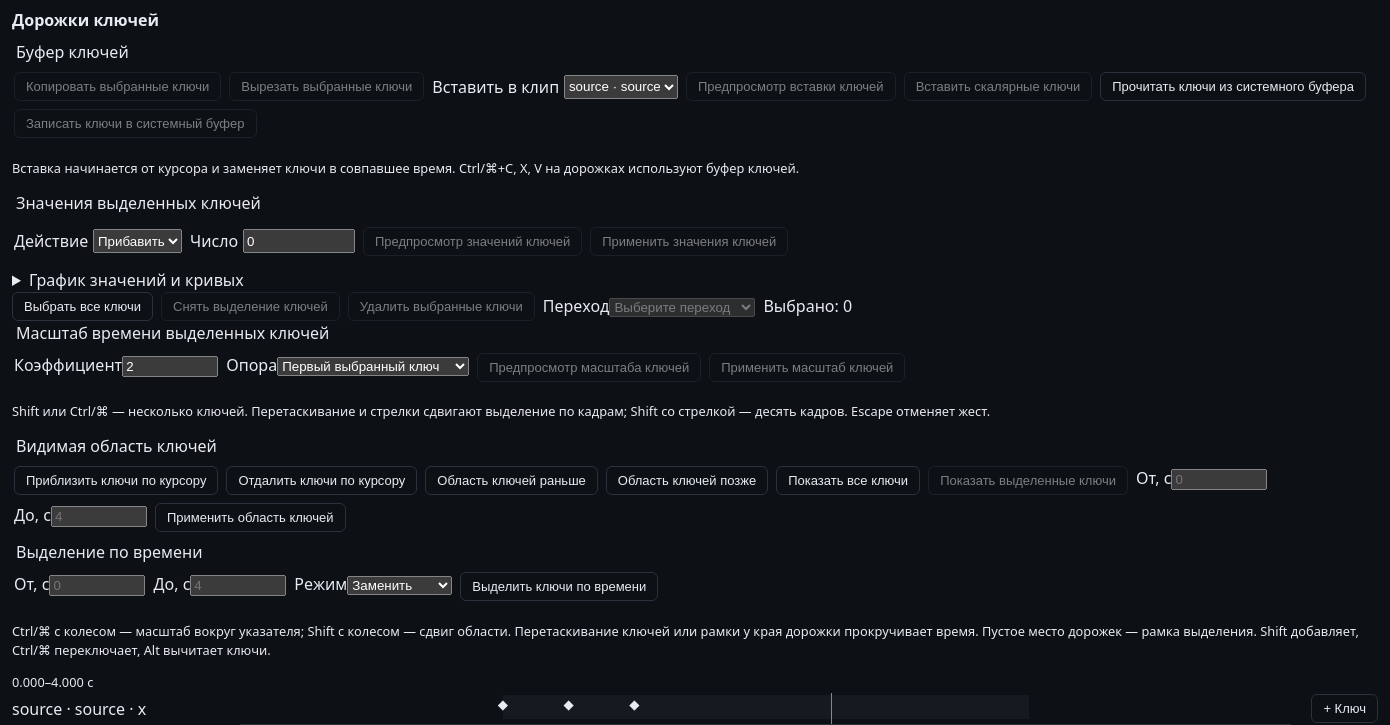
Scenario: rejects stale paste admission before reactive cleanup and restores the original preview on native refusal
Click the button "Выбрать все ключи".
click(82, 306)  # box left=12, top=292, right=153, bottom=321
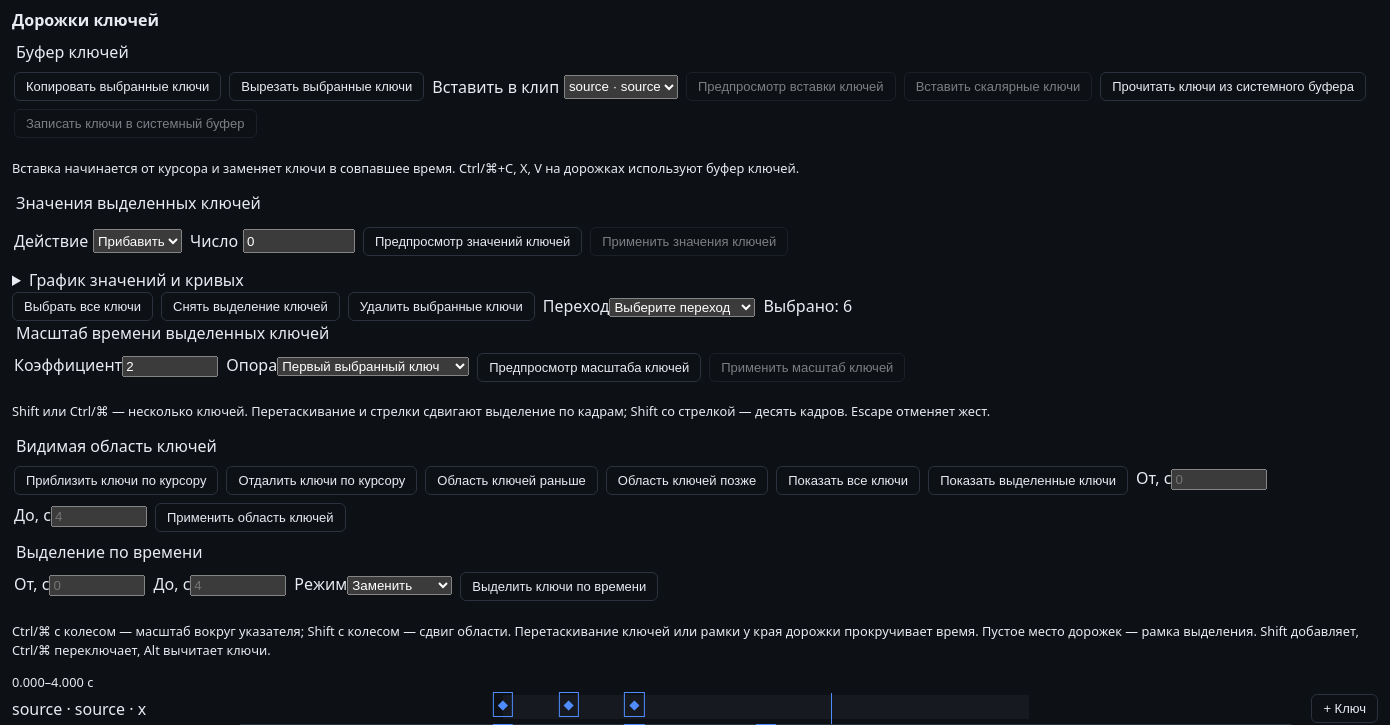
Click the button "Копировать выбранные ключи".
click(118, 86)  # box left=14, top=72, right=221, bottom=101
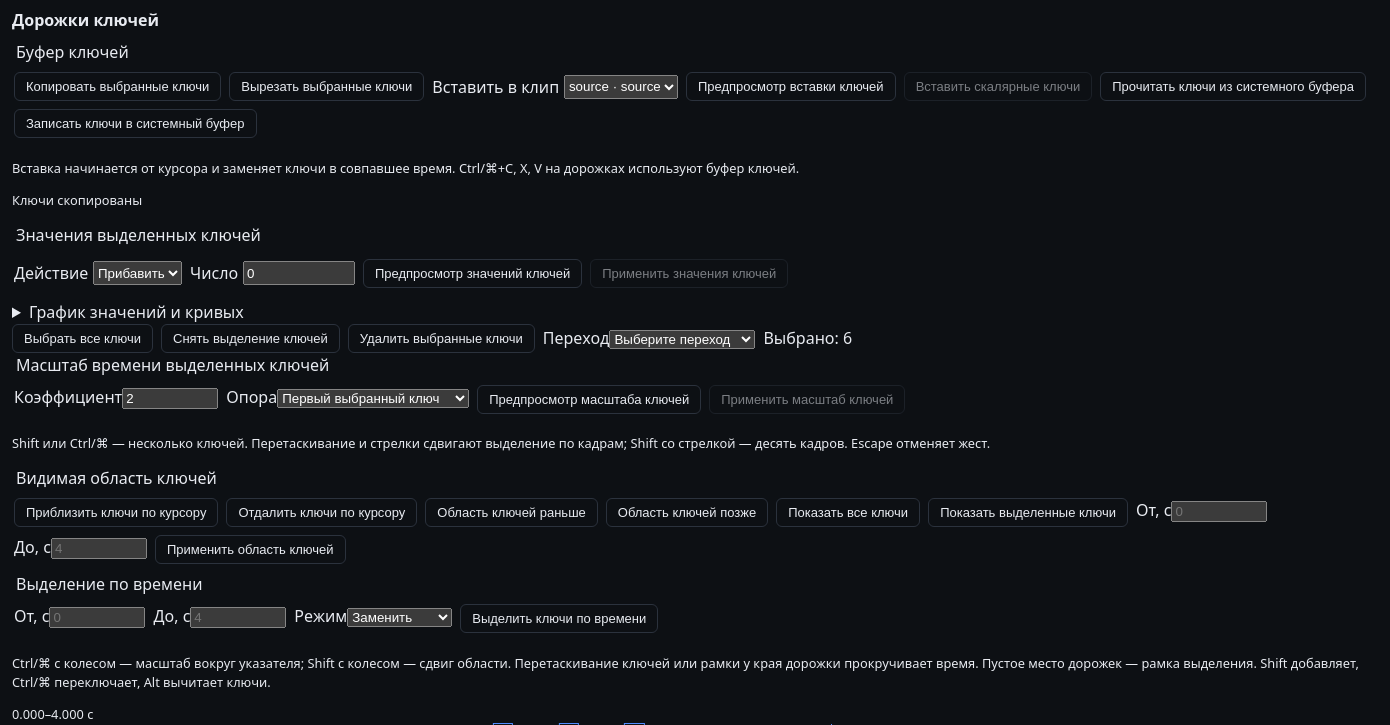
Select "target · target" in the dropdown named "Клип для вставки скалярных ключей" at x=621, y=86, box left=564, top=74, right=678, bottom=98
Click the button "Предпросмотр вставки ключей".
click(791, 86)  # box left=686, top=72, right=896, bottom=101
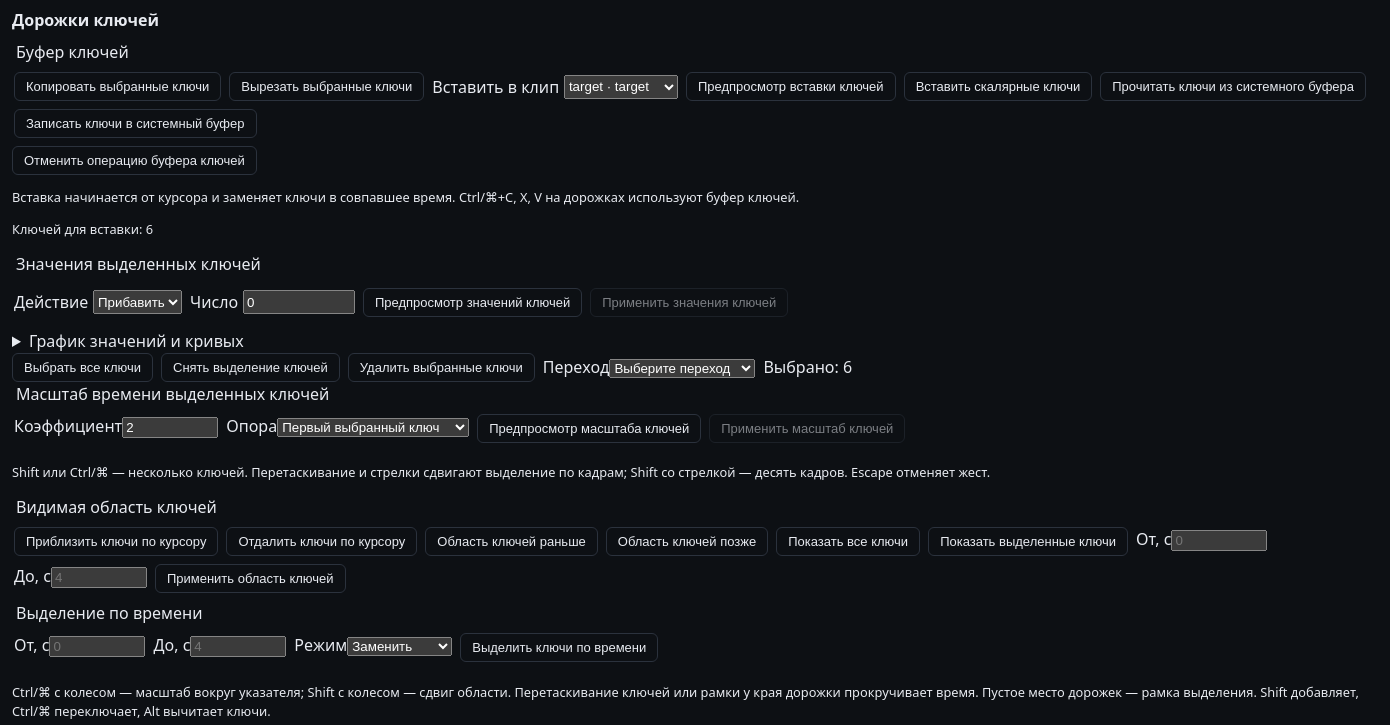
Click the button "Вставить скалярные ключи".
click(998, 86)  # box left=904, top=72, right=1092, bottom=101
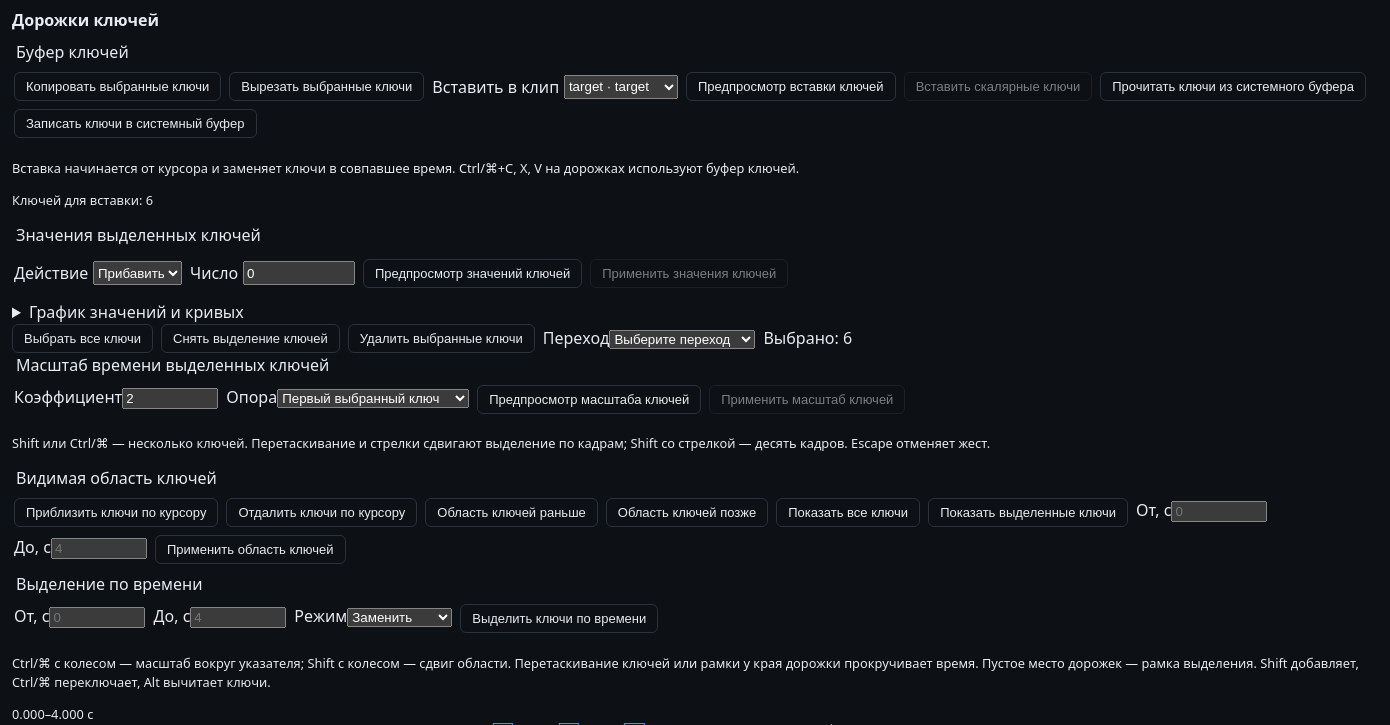
Click the button "Предпросмотр вставки ключей".
click(791, 86)  # box left=686, top=72, right=896, bottom=101
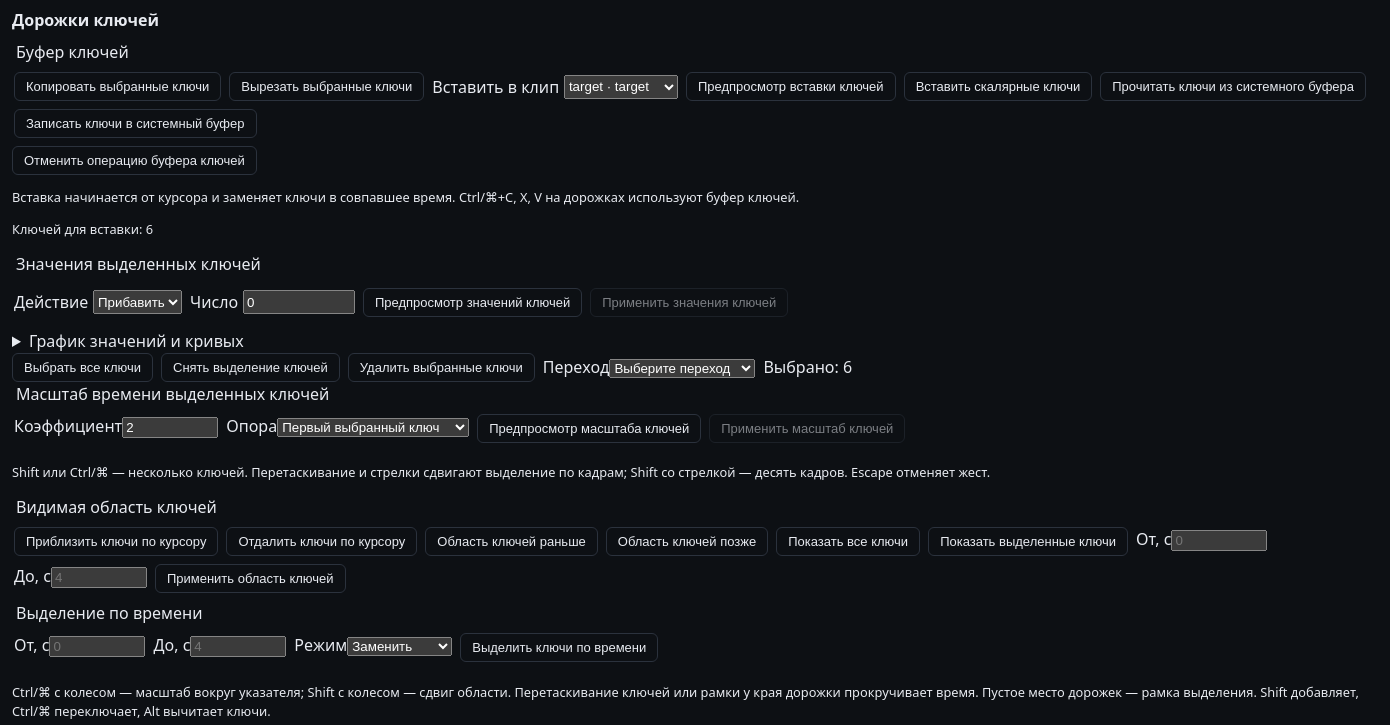
Click the button "Вставить скалярные ключи".
click(998, 86)  # box left=904, top=72, right=1092, bottom=101
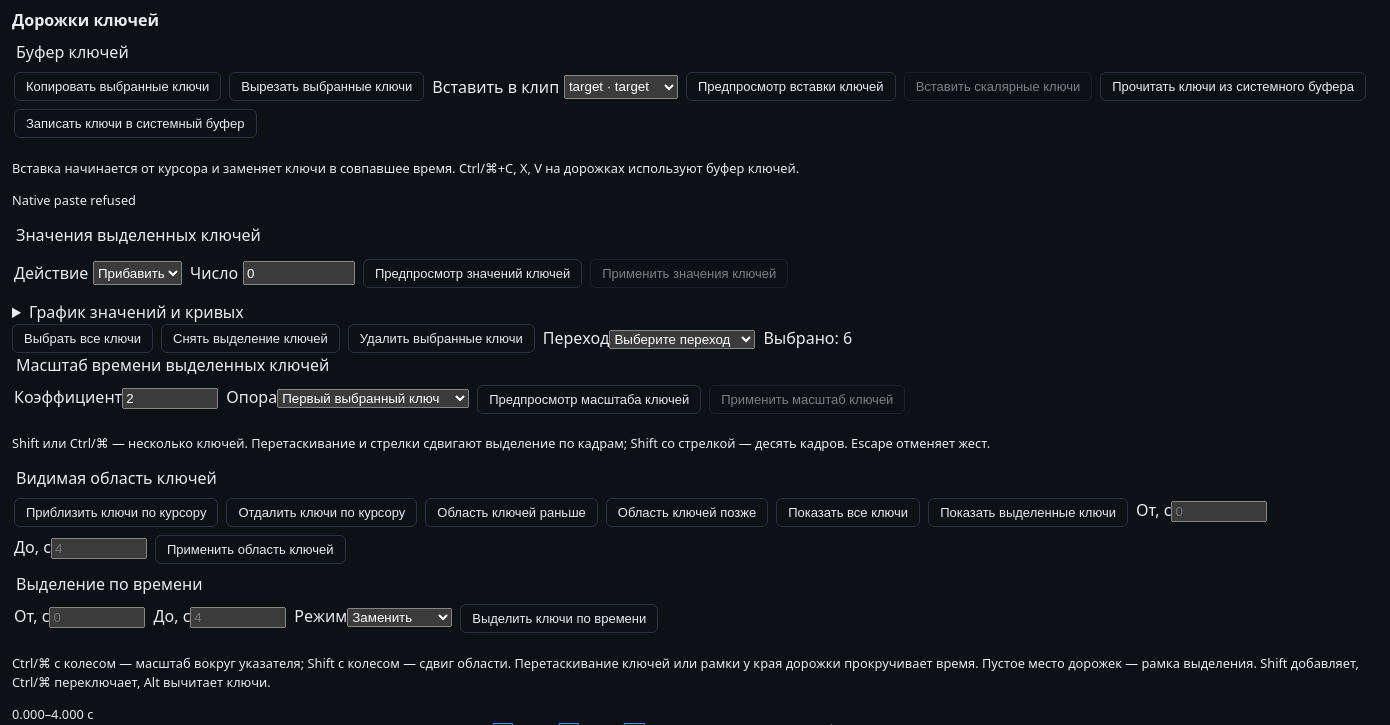
Check: the text "Native paste refused" is shown, box left=12, top=191, right=136, bottom=209
